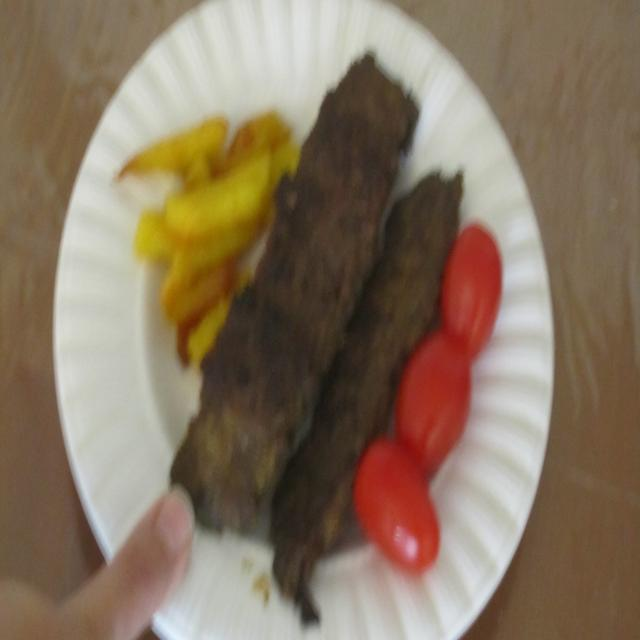cutlet: (296, 213, 372, 422)
potato: (119, 119, 252, 282)
tomato: (392, 231, 502, 570)
